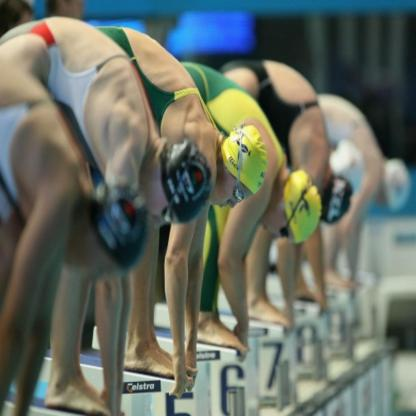face: (213, 178, 260, 210), (144, 198, 192, 225), (261, 214, 302, 243)
